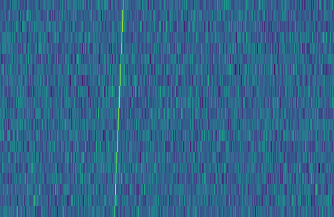signal: (109, 0, 127, 217)
